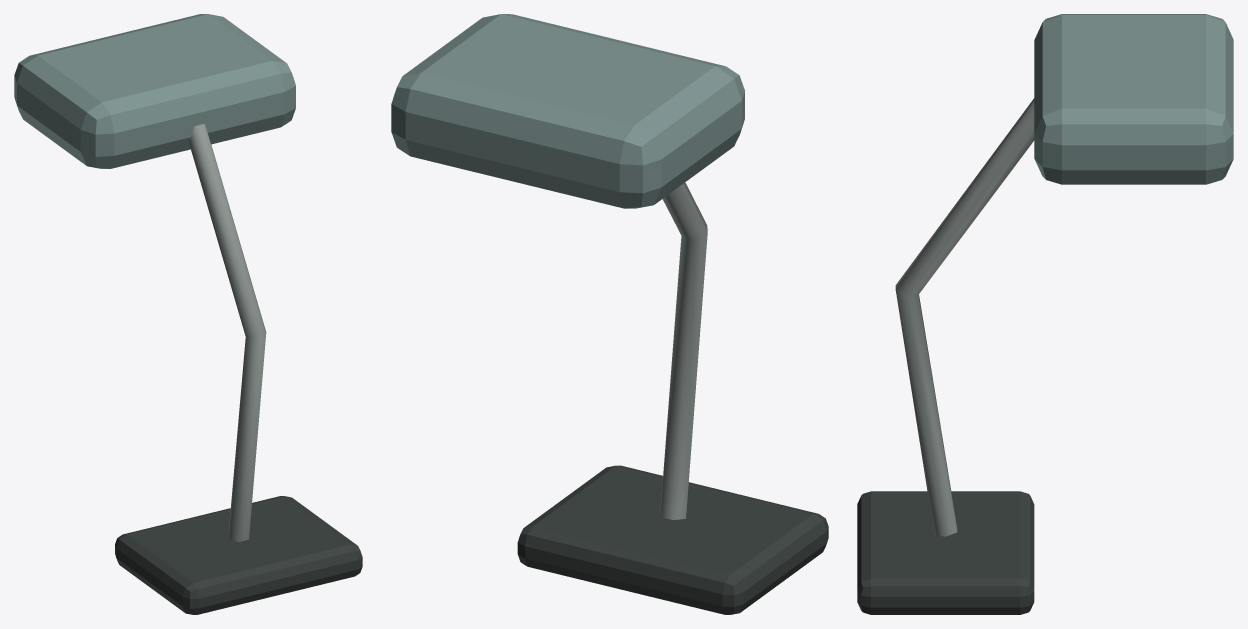
File: task_lamp.glb
3 views of the same model, side by side, from view 1: azimuth 30°, elevation 25°; view 2: azimuth 150°, elevation 25°; view 3: azimuth 270°, elevation 25° (orthographic). The views are drawn at different scales.
Parts seen in each view (by area): view 1: KitFabric, KitDark, KitSteel; view 2: KitFabric, KitDark, KitSteel; view 3: KitFabric, KitDark, KitSteel.
Boxes of the visible parts, box(x1,y1,x2,y2) form: KitFabric: box(14, 14, 295, 168); KitDark: box(115, 496, 362, 614); KitSteel: box(188, 124, 266, 541); KitFabric: box(391, 14, 744, 208); KitDark: box(517, 465, 828, 614); KitSteel: box(660, 182, 707, 520); KitFabric: box(1034, 14, 1233, 184); KitDark: box(857, 491, 1034, 614); KitSteel: box(895, 98, 1034, 536).
Bounding box in the file's own units: 0.25 × 0.5075 × 0.34.
